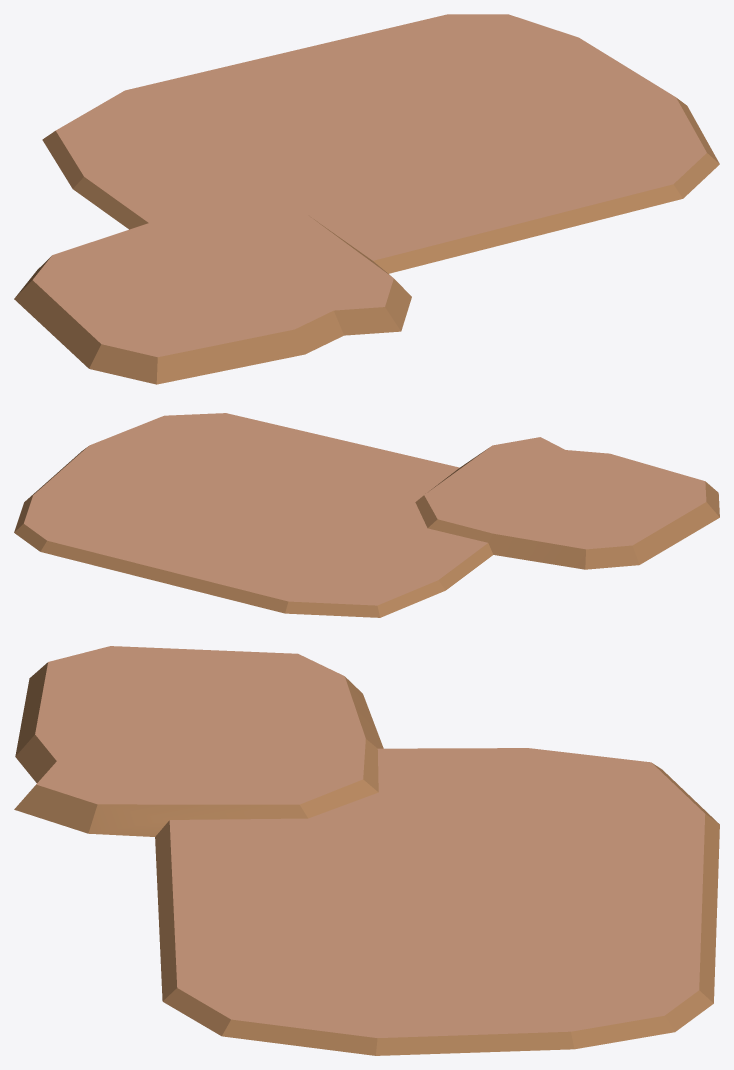
Rendered from DE_Stone_05_Sand.fbx.
The picture shows the model from 3 angles, top to bottom: view 1: azimuth 30°, elevation 25°; view 2: azimuth 150°, elevation 25°; view 3: azimuth 270°, elevation 25°; orthographic projection. The views are drawn at different scales.
Visible parts, largest first — view 1: DE_Stone_05_Sand; view 2: DE_Stone_05_Sand; view 3: DE_Stone_05_Sand.
Part boxes in pixels (box(x1,y1,x2,y2)): DE_Stone_05_Sand: box(14, 14, 719, 384); DE_Stone_05_Sand: box(14, 413, 719, 617); DE_Stone_05_Sand: box(14, 646, 719, 1055).
Bounding box in the file's own units: 197 × 5 × 148.
